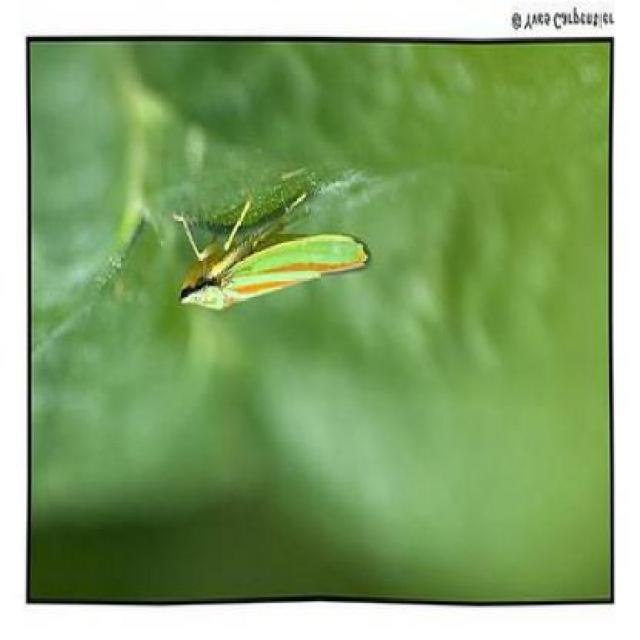green-leafhopper: (174, 200, 372, 318)
